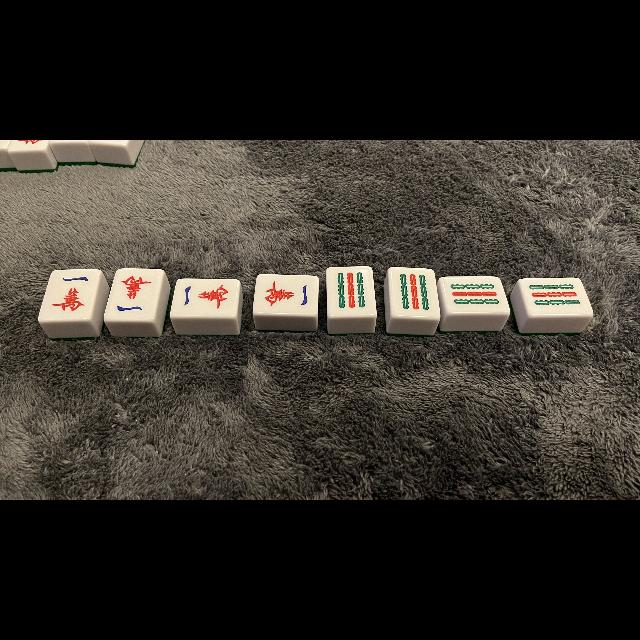b9: (391, 268, 437, 318), (523, 278, 585, 314), (329, 266, 373, 316), (445, 277, 505, 313)
c1: (255, 274, 317, 316), (175, 278, 238, 318), (109, 269, 158, 319), (49, 269, 96, 319)
